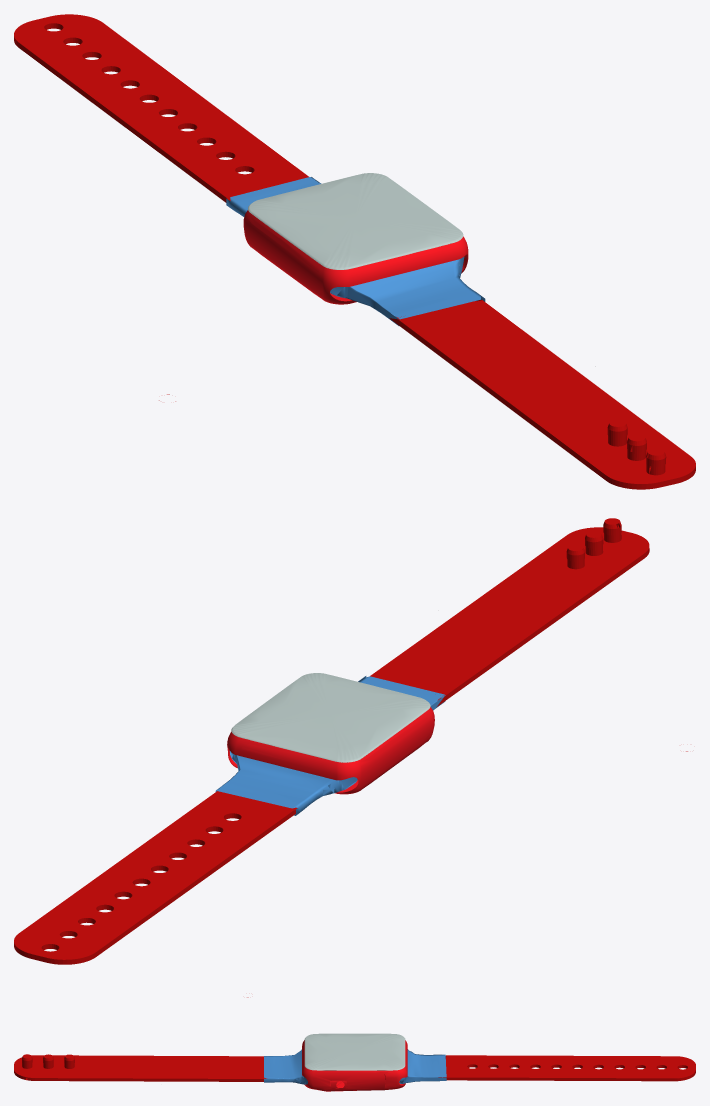
File: watchout.obj
The picture shows the model from 3 angles, top to bottom: view 1: azimuth 30°, elevation 25°; view 2: azimuth 150°, elevation 25°; view 3: azimuth 270°, elevation 25°; orthographic projection. The views are drawn at different scales.
Visible parts, largest first — view 1: WATCH+STRAP+V3.001, WATCH+STRAP+V3, mesh_3_1, mesh_3; view 2: WATCH+STRAP+V3, WATCH+STRAP+V3.001, mesh_3_1, mesh_3; view 3: WATCH+STRAP+V3.001, WATCH+STRAP+V3, mesh_3_1, mesh_3.
Boxes of the visible parts, x1=… form: WATCH+STRAP+V3.001: x1=159, y1=257, x2=695, y2=489; WATCH+STRAP+V3: x1=14, y1=14, x2=321, y2=216; mesh_3_1: x1=248, y1=173, x2=463, y2=269; mesh_3: x1=243, y1=210, x2=468, y2=304; WATCH+STRAP+V3: x1=14, y1=751, x2=357, y2=964; WATCH+STRAP+V3.001: x1=358, y1=518, x2=687, y2=751; mesh_3_1: x1=231, y1=673, x2=430, y2=762; mesh_3: x1=227, y1=707, x2=434, y2=794; WATCH+STRAP+V3.001: x1=14, y1=997, x2=307, y2=1084; WATCH+STRAP+V3: x1=399, y1=1049, x2=695, y2=1083; mesh_3_1: x1=304, y1=1033, x2=405, y2=1070; mesh_3: x1=302, y1=1040, x2=407, y2=1091.
Bounding box in the file's own units: 7.12 × 0.7919 × 21.04.
